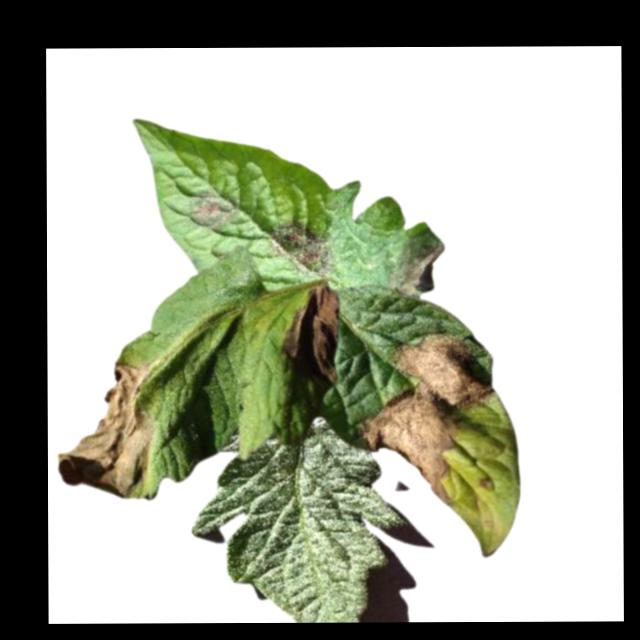Late_blight: (353, 330, 497, 506), (50, 361, 157, 500), (279, 280, 339, 385), (263, 219, 332, 279), (387, 235, 445, 304), (186, 188, 241, 232)
healthy: (188, 417, 407, 622)
